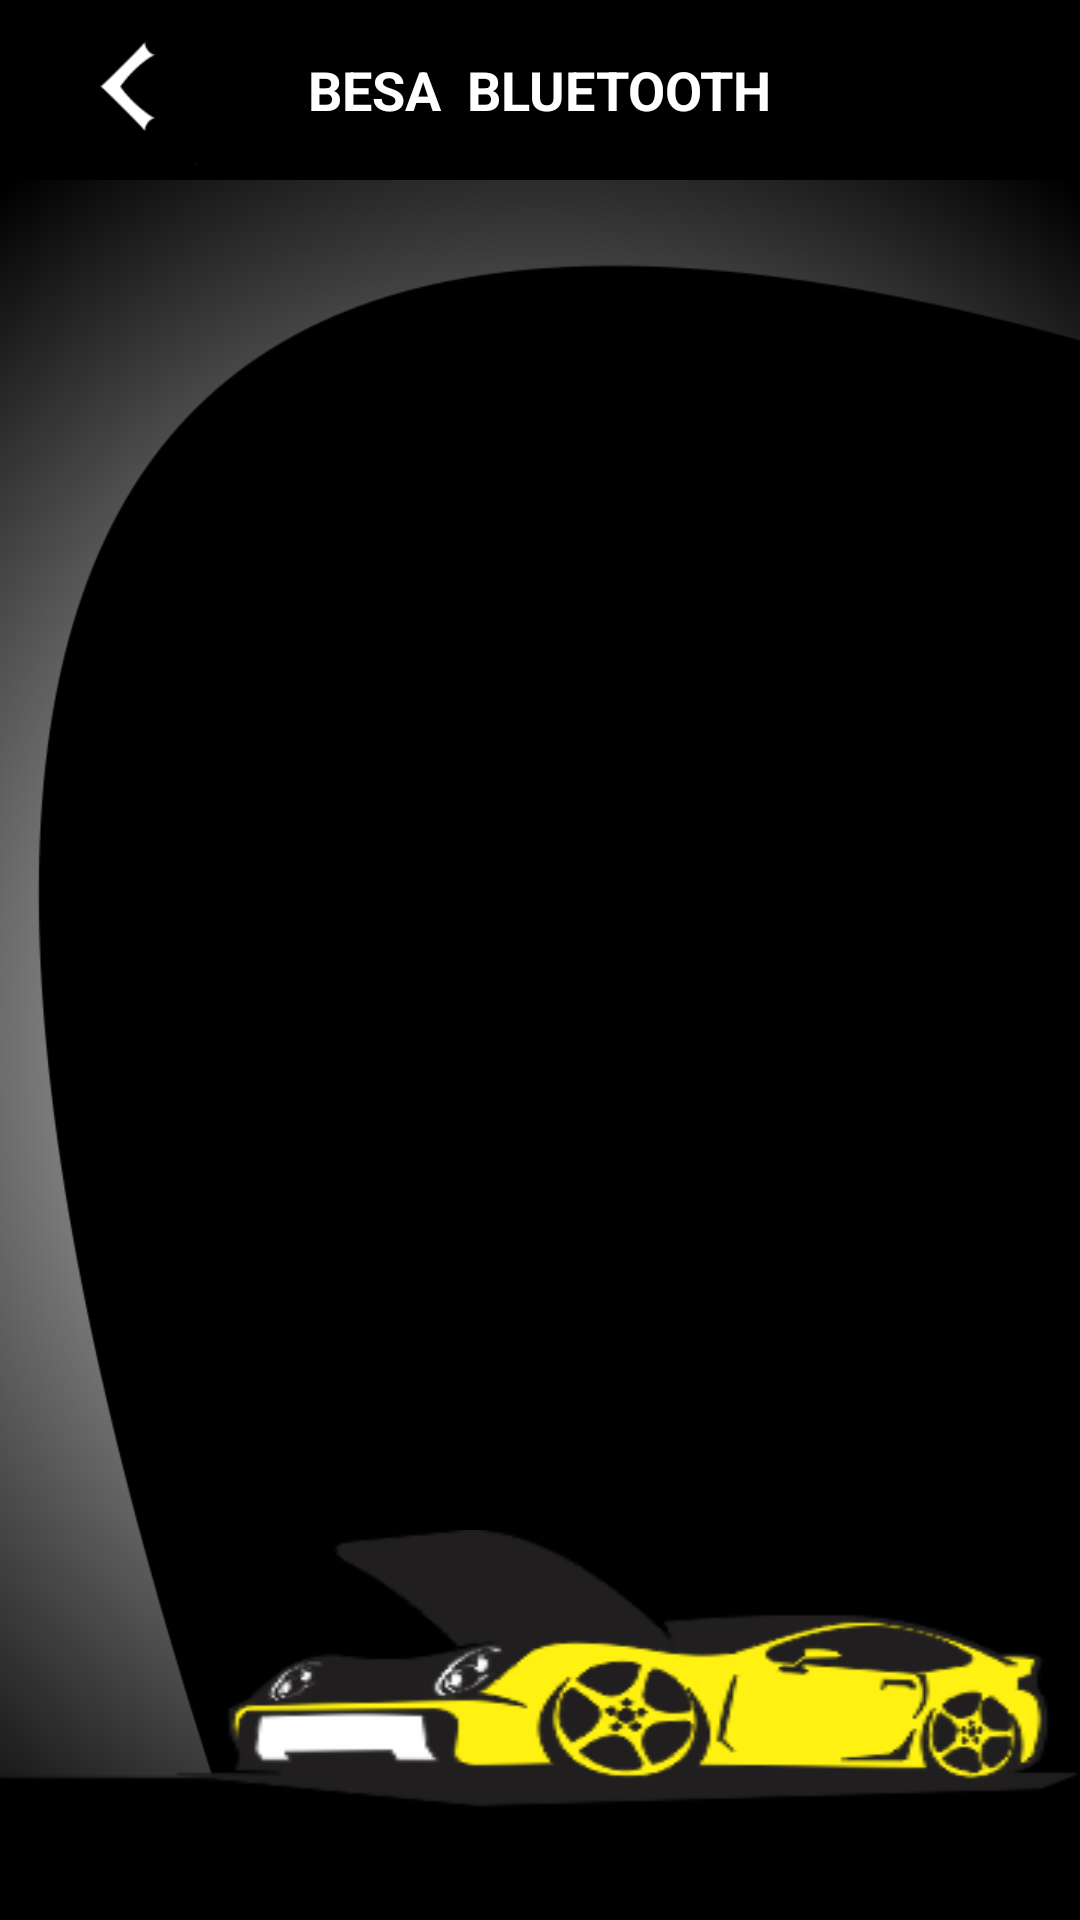

Screen size 1080x1920. Icon name, then its center in pixels as [x,y]:
back: [127,86]
